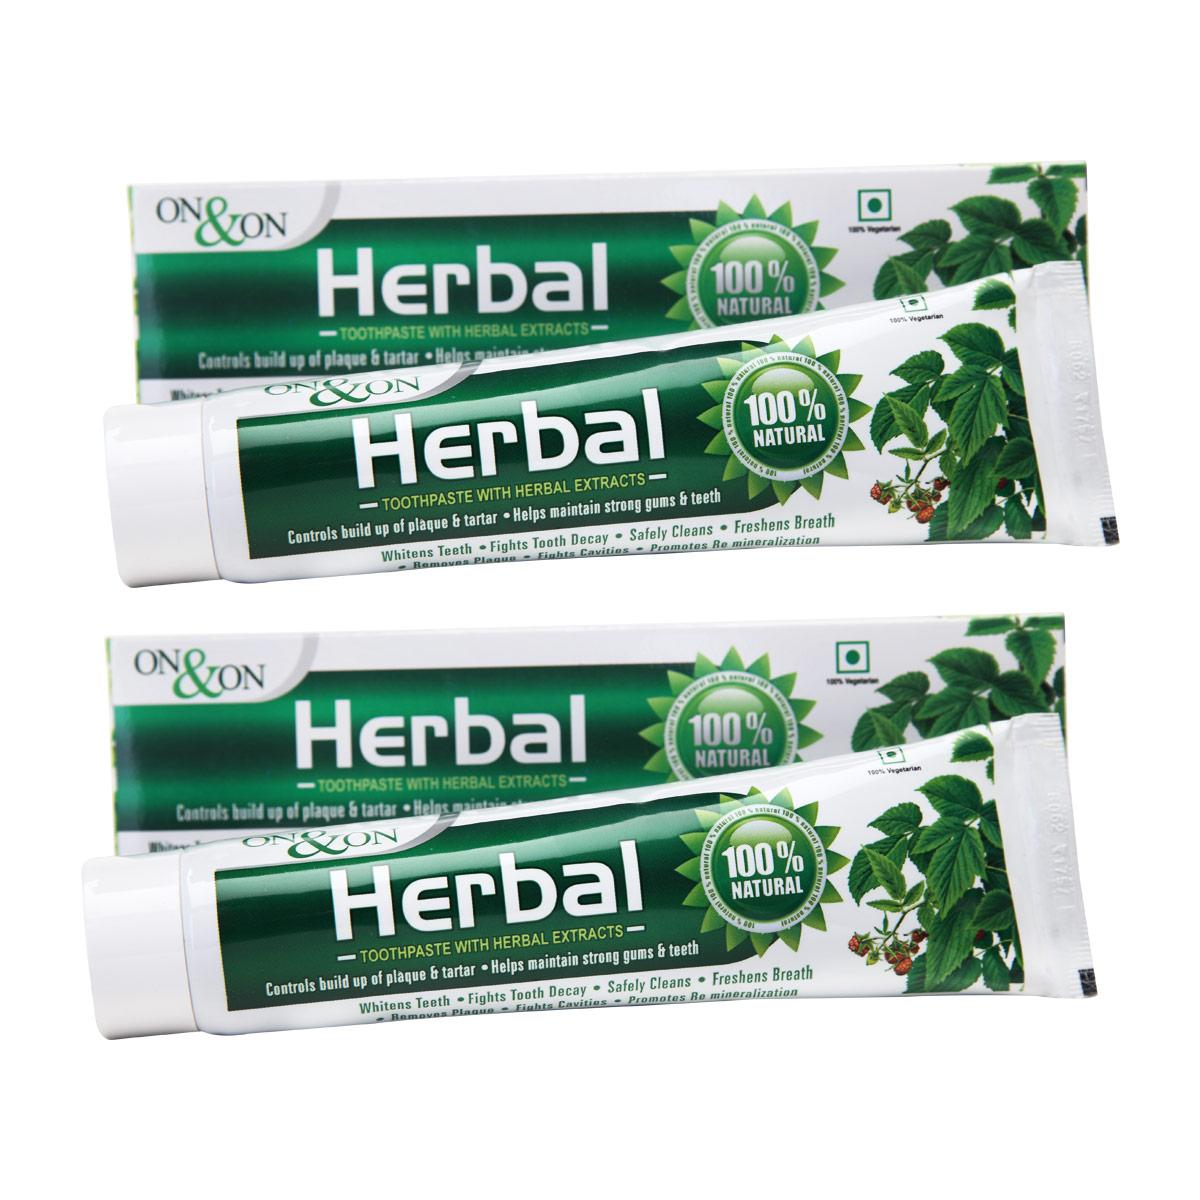toothpaste: (46, 803, 1111, 1048), (76, 336, 1132, 573), (103, 156, 1116, 378), (81, 609, 1136, 819)
